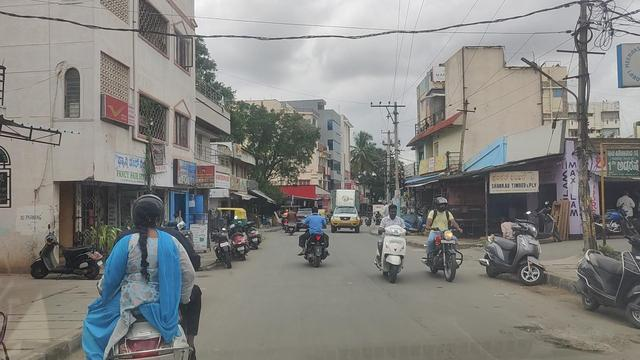LMV: (105, 188, 199, 360), (303, 202, 333, 279), (380, 203, 405, 283)
RoadDamages: (525, 314, 603, 357)
